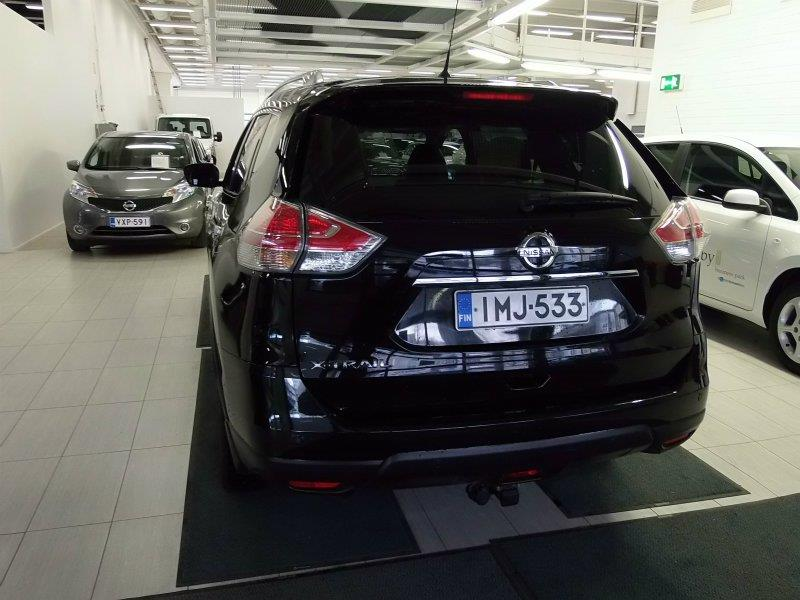license: (454, 283, 587, 324)
